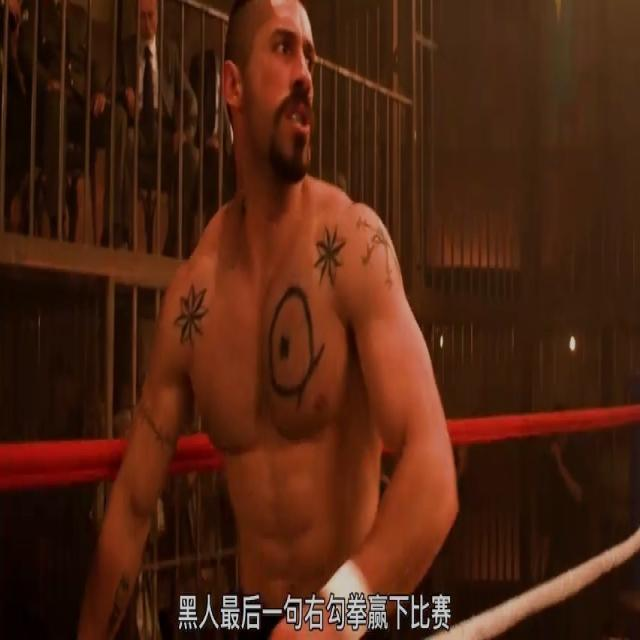fight: (98, 0, 462, 637)
